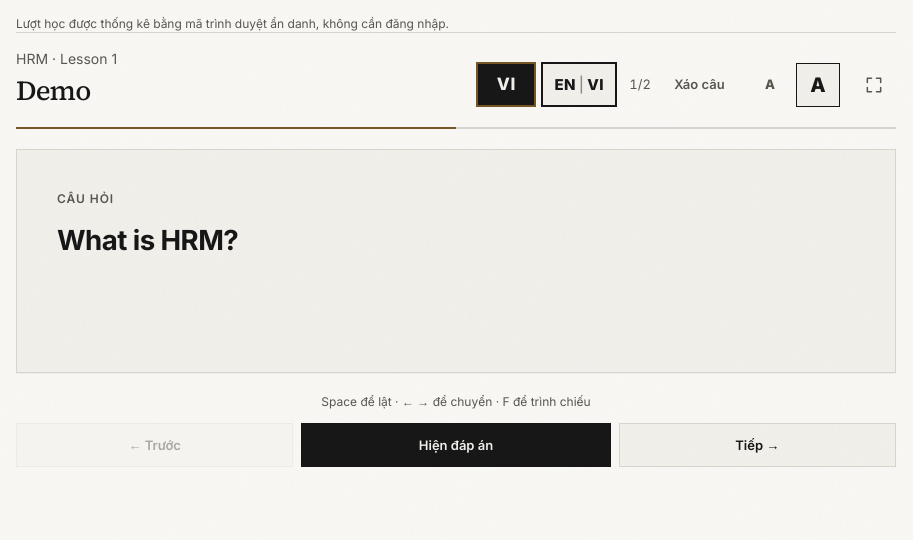
Test case: ActiveRecallPlayer › toggles Vietnamese translations and falls back to the original when a card has none
The image size is (913, 540).
Check: the text "What is HRM?" is shown, box [57,224,238,258]
Click the button "VI".
click(506, 85)  # box [476,62,536,108]
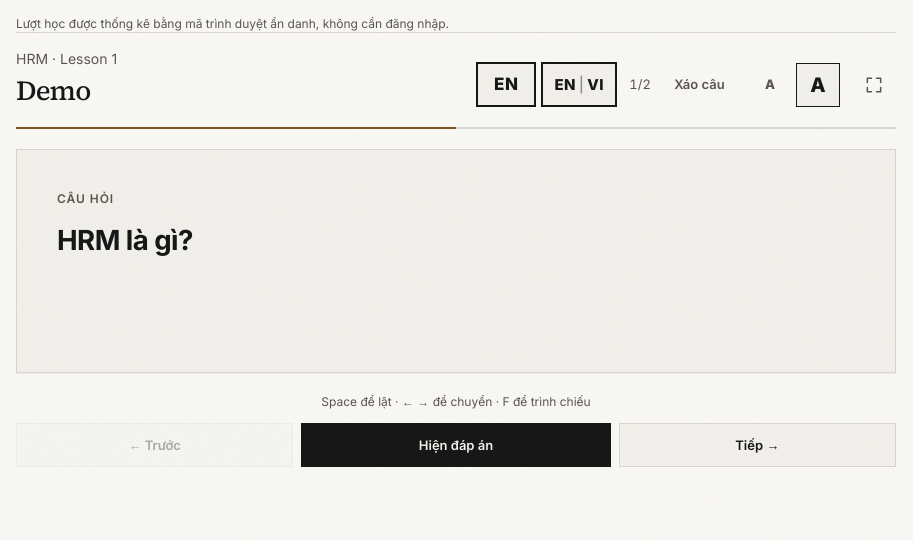
Check: the text "HRM là gì?" is shown, box [57,224,193,258]
Click the button "Hiện đáp án".
click(456, 446)  # box [301,424,611,468]
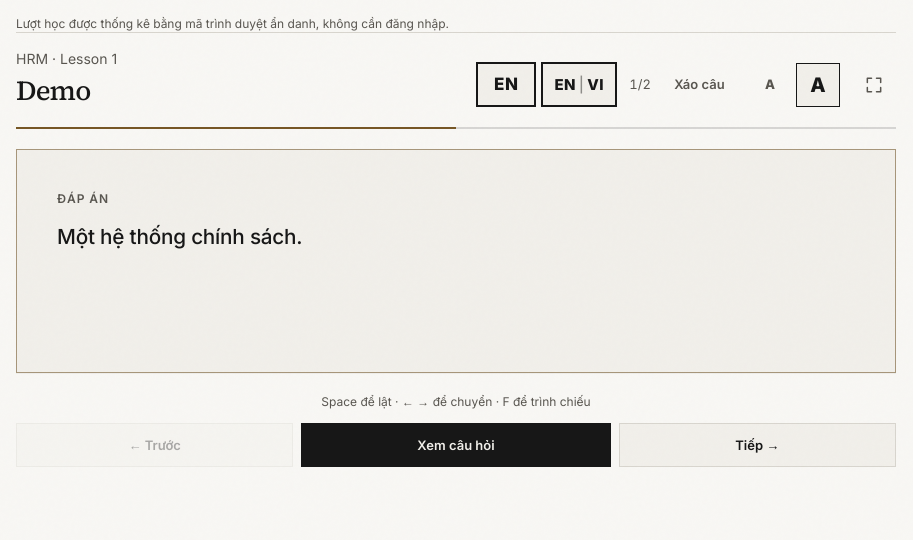
Check: the text "Một hệ thống chính sách." is shown, box [57,224,302,250]
Click the button "Tiếp →".
click(757, 446)  # box [619,424,896,468]
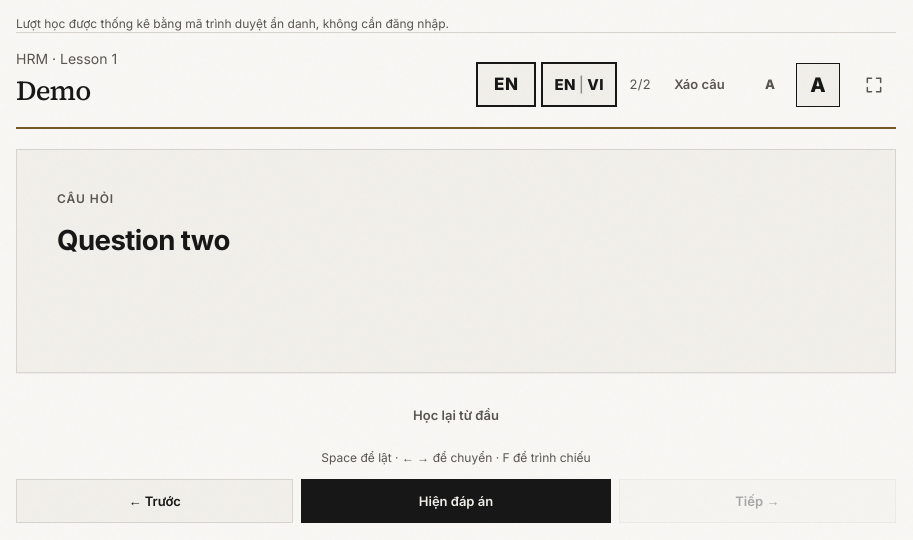
Check: the button "EN" is shown, box [476,62,536,108]
Check: the text "Question two" is shown, box [57,224,230,258]
